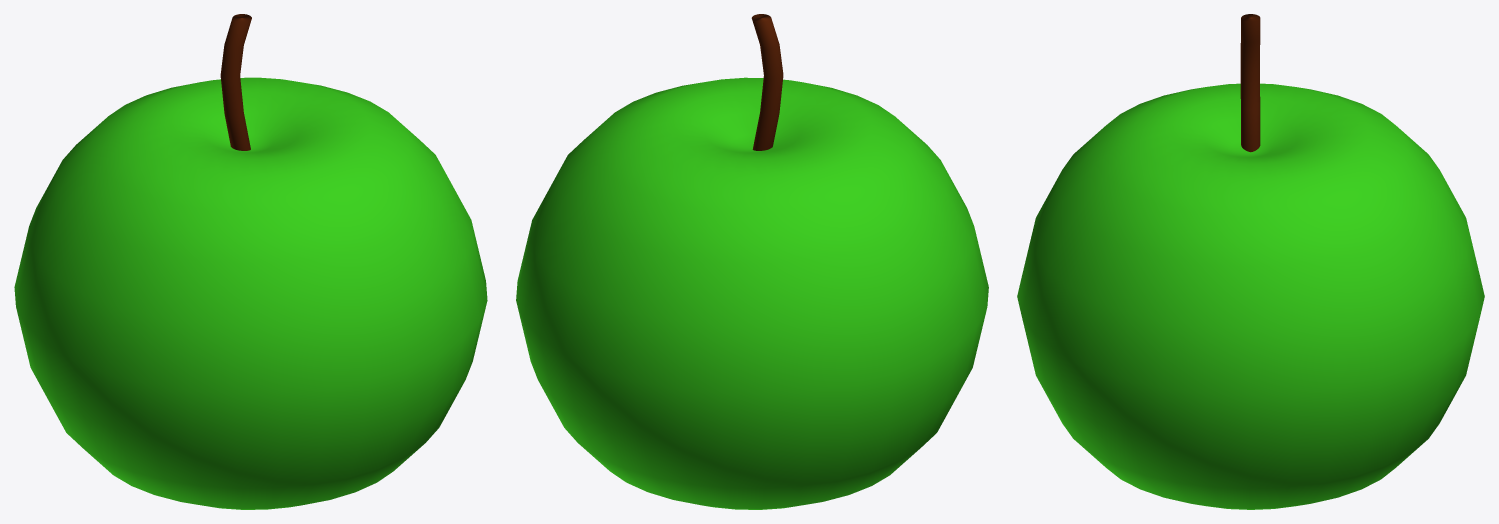
Rendered from pomme.obj.
The picture shows the model from 3 angles, left to right: view 1: azimuth 30°, elevation 25°; view 2: azimuth 150°, elevation 25°; view 3: azimuth 270°, elevation 25°; orthographic projection.
Visible parts, largest first — view 1: Pomme, Tige; view 2: Pomme, Tige; view 3: Pomme, Tige.
Part boxes in pixels (x1,y1,x2,y2): Pomme: (14,77,487,509); Tige: (220,14,251,150); Pomme: (516,77,988,509); Tige: (751,14,783,150); Pomme: (1017,83,1484,509); Tige: (1240,14,1260,152).
Bounding box in the file's own units: 1.95 × 2.03 × 1.95.
